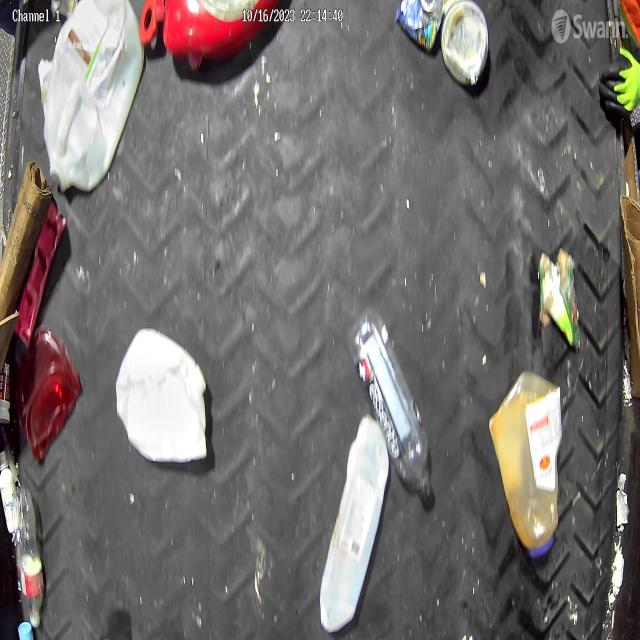milk_jug: (44, 0, 145, 192), (114, 327, 208, 466)
plastic_bottle: (346, 304, 434, 506), (488, 368, 562, 559), (12, 486, 45, 628)
